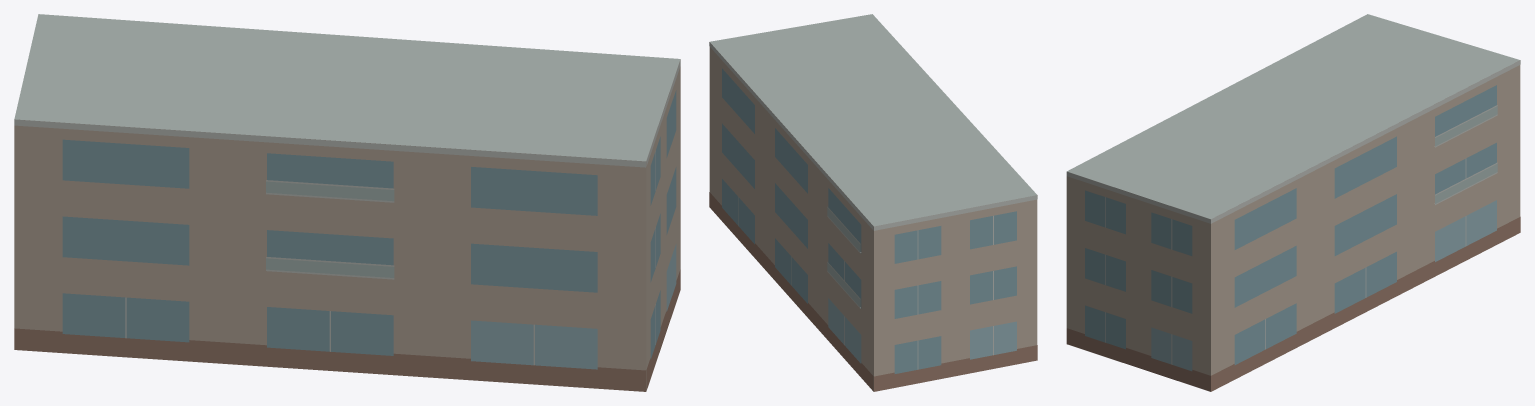
Rendered from survey-upis-32678296.glb.
3 renders of one model, left to right at view 1: azimuth 30°, elevation 25°; view 2: azimuth 150°, elevation 25°; view 3: azimuth 270°, elevation 25°, orthographic. The views are drawn at different scales.
Parts seen in each view (by area): view 1: survey-upis-32678296.tmp; view 2: survey-upis-32678296.tmp; view 3: survey-upis-32678296.tmp.
Part boxes in pixels (bbox=[...]): survey-upis-32678296.tmp: bbox=[14, 14, 680, 391]; survey-upis-32678296.tmp: bbox=[709, 14, 1037, 391]; survey-upis-32678296.tmp: bbox=[1066, 14, 1520, 391].
Size of the model in its own units: 23.35 by 9.15 by 21.81.
